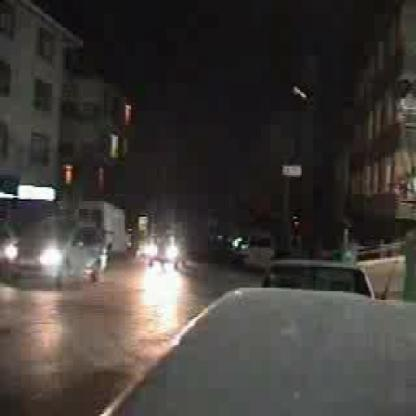other: (0, 231, 70, 278), (140, 260, 178, 330), (136, 234, 186, 272)
